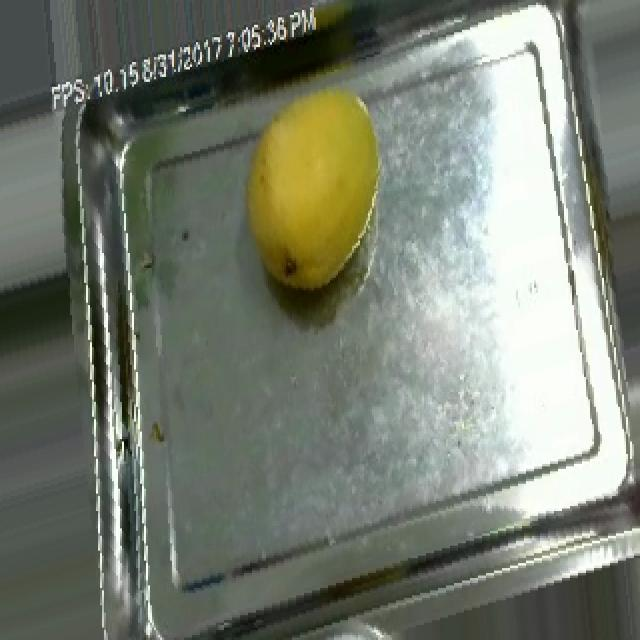fruit: (214, 67, 412, 313)
